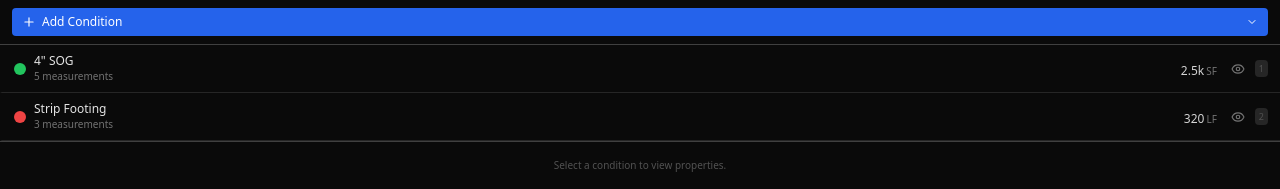
Test: ConditionPanel › template dropdown opens on click
What coordinates should you click on to do the following:
click the button with test id "quick-create-btn"
I would click on:
 (82, 22)
Its box is [12,8,1268,36].
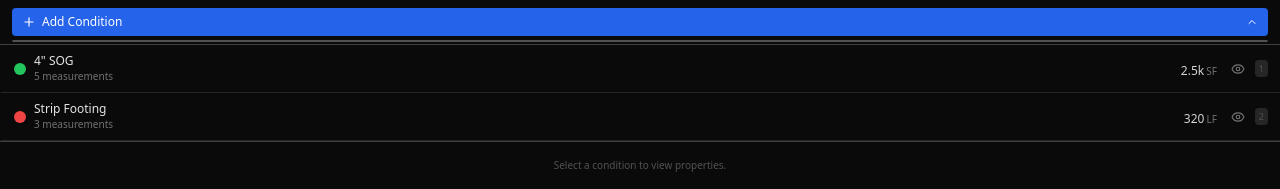
Result: the element with test id "template-dropdown" is shown at [12,40,1268,42]
